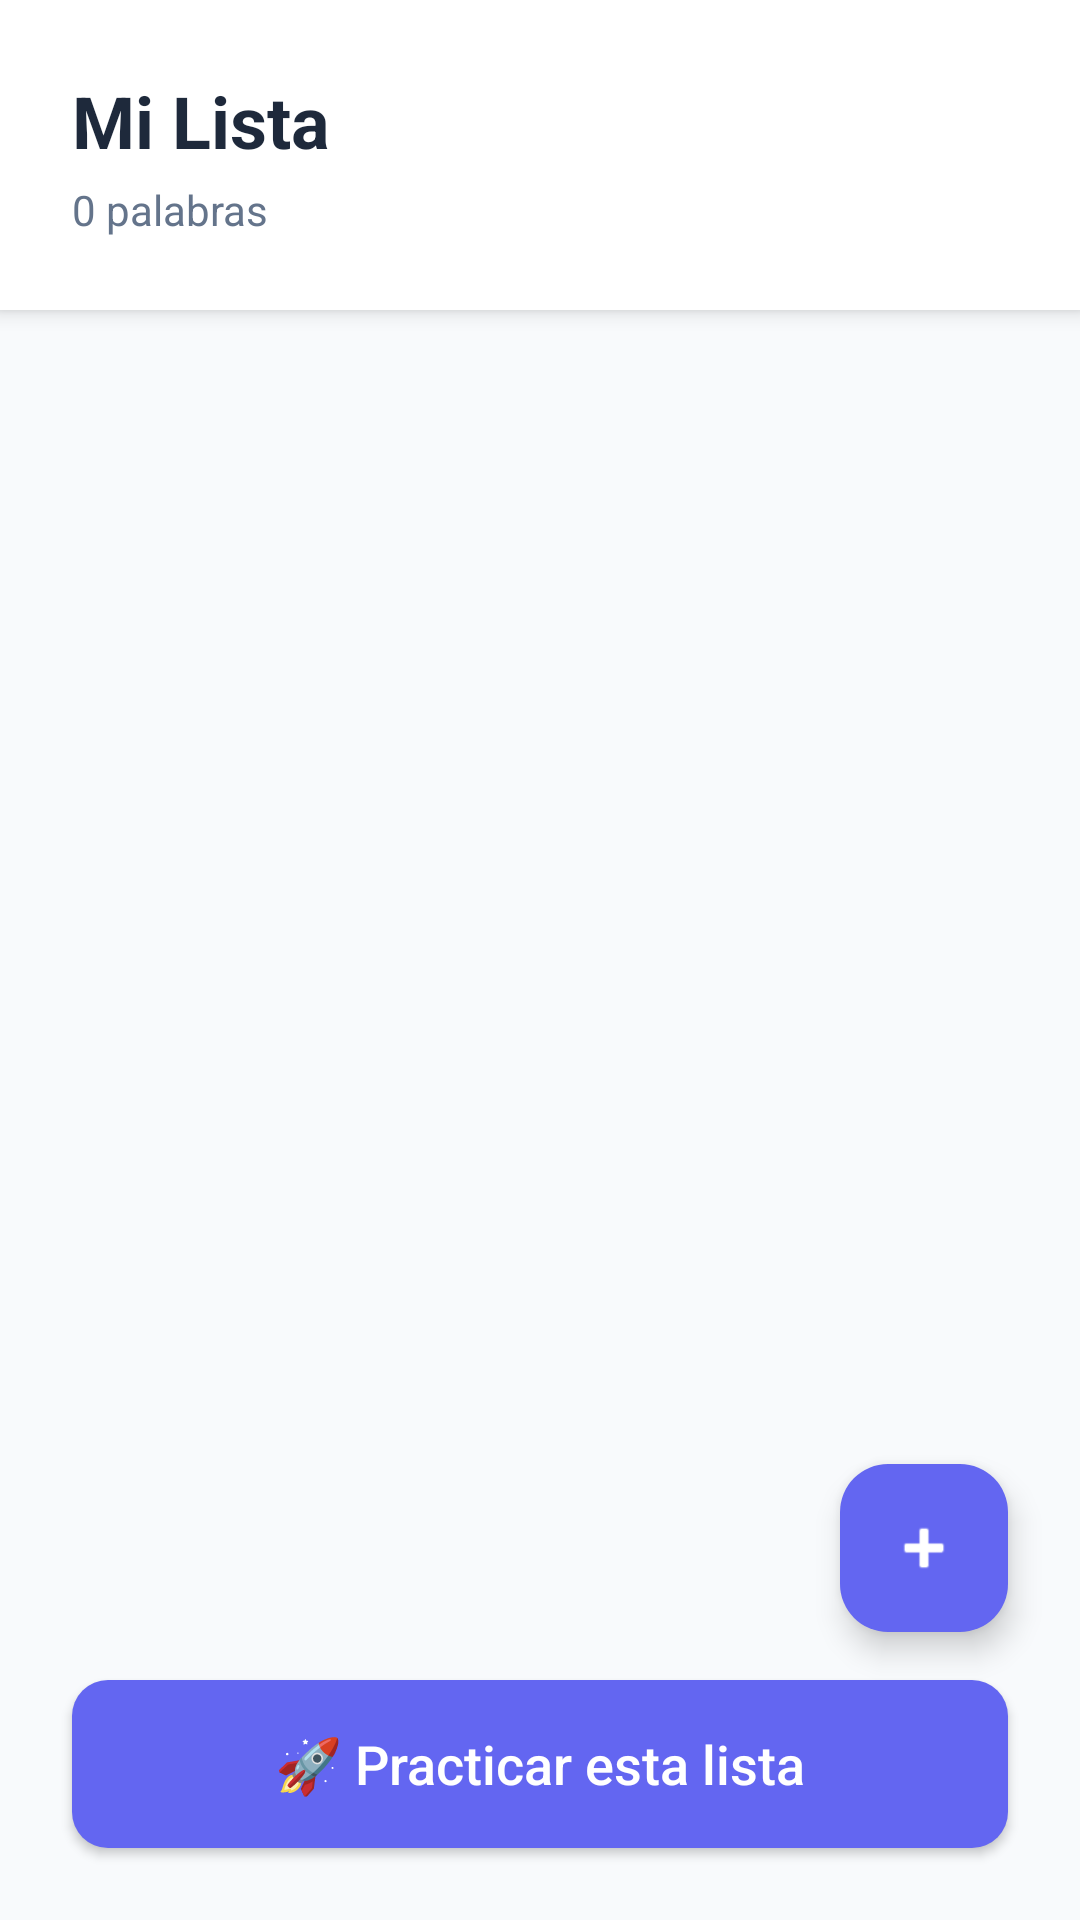

Point at icon controls on the screen. Image size 1080 x 1920, points as (x,y).
Agregar palabra: (924,1548)
